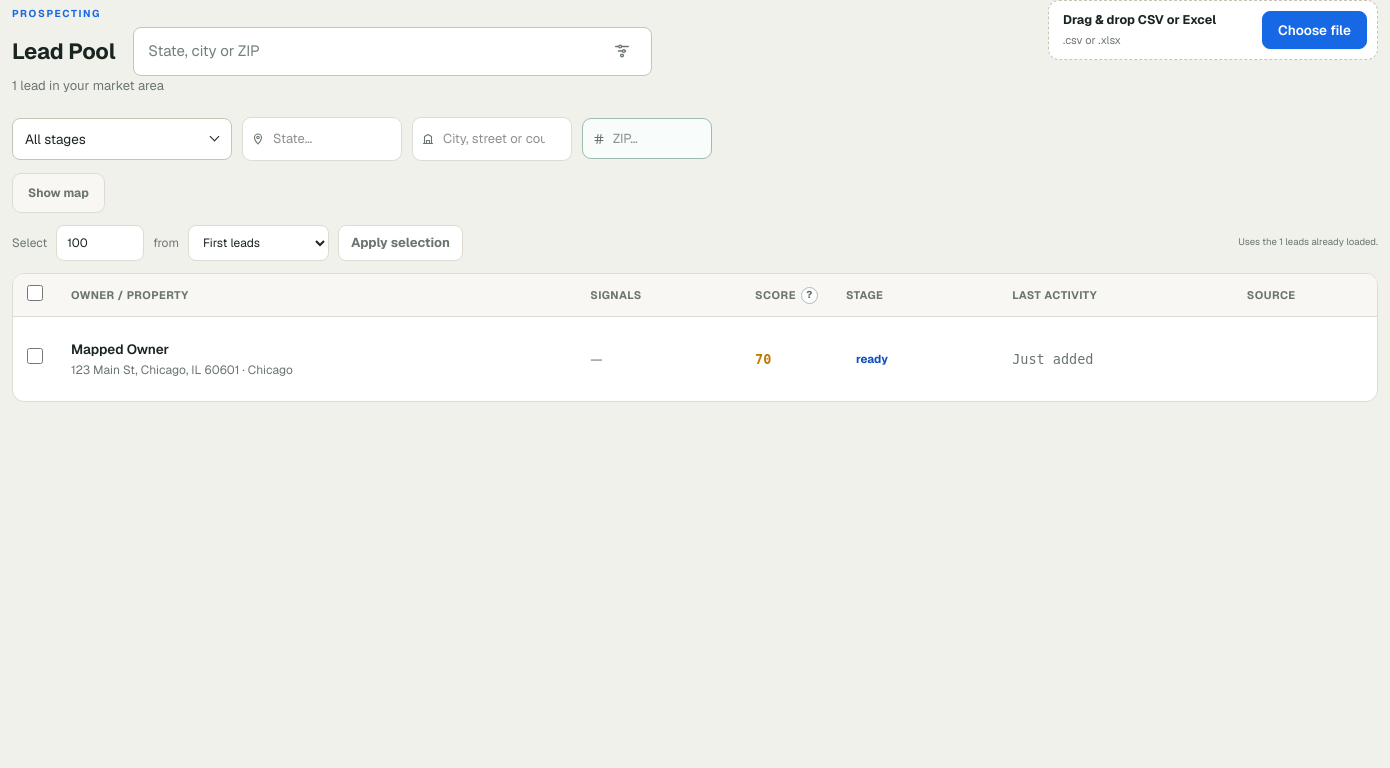
Scenario: LeadPool dependent location filters › opens the map when a mapped lead is clicked in the table
Click the button "Mapped Owner": (120, 350) top-left (71, 339), bottom-right (169, 360)
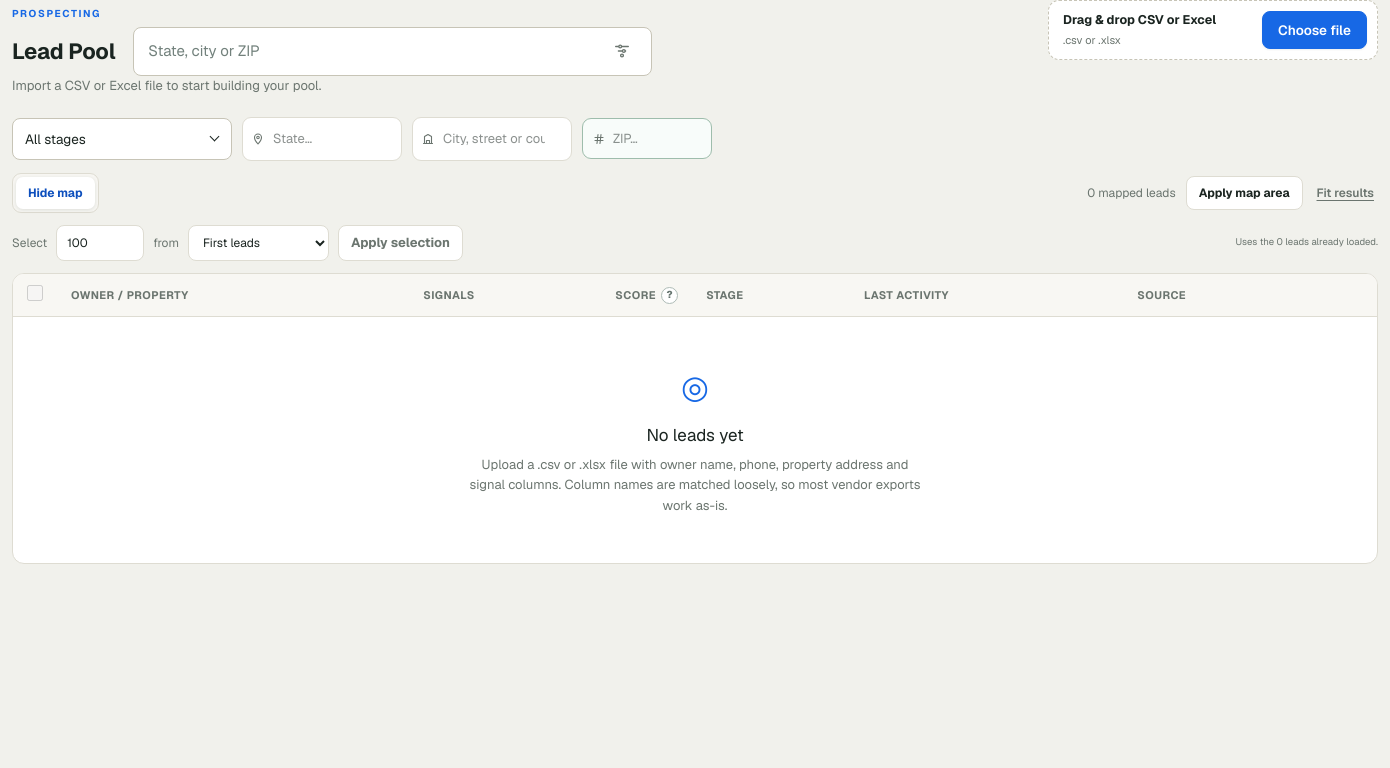
Now the button "Hide map" is shown, box top-left (16, 176), bottom-right (95, 208)
